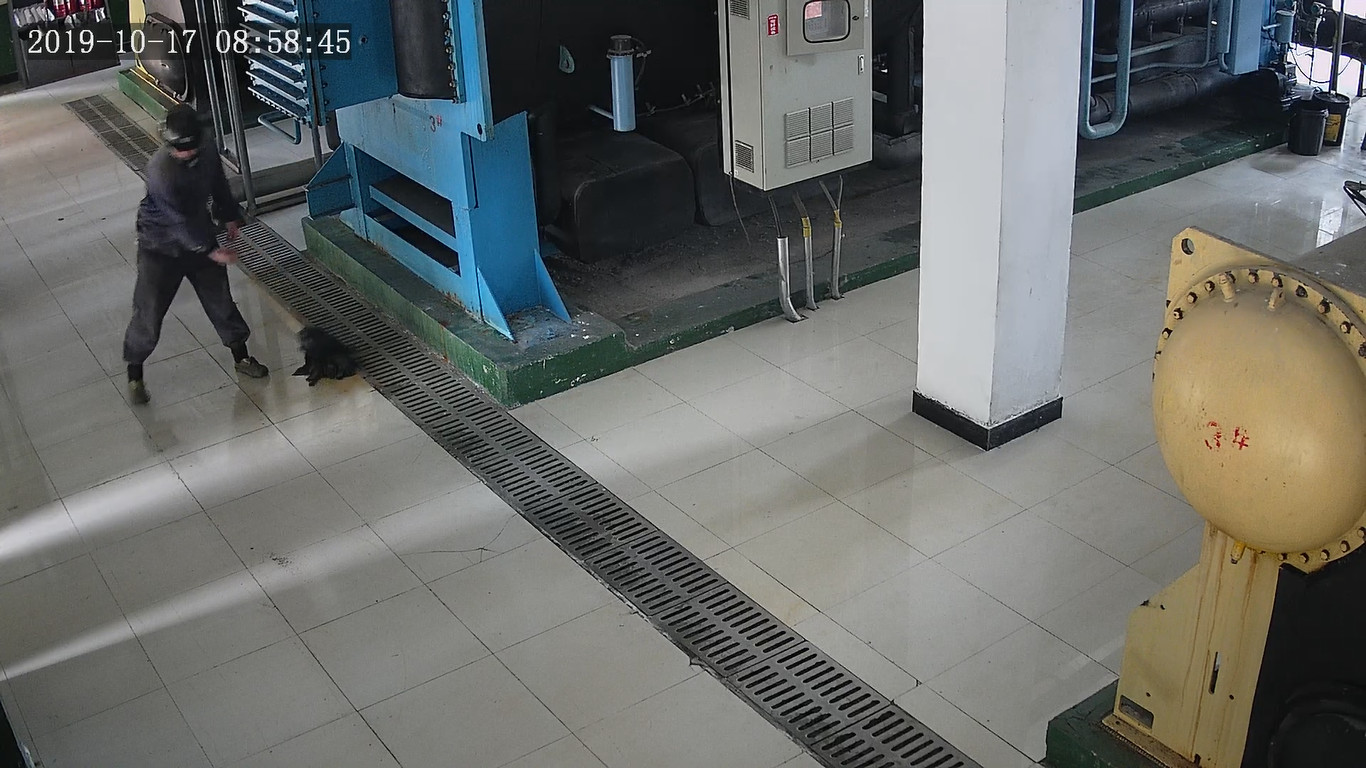helmet: (159, 103, 204, 150)
